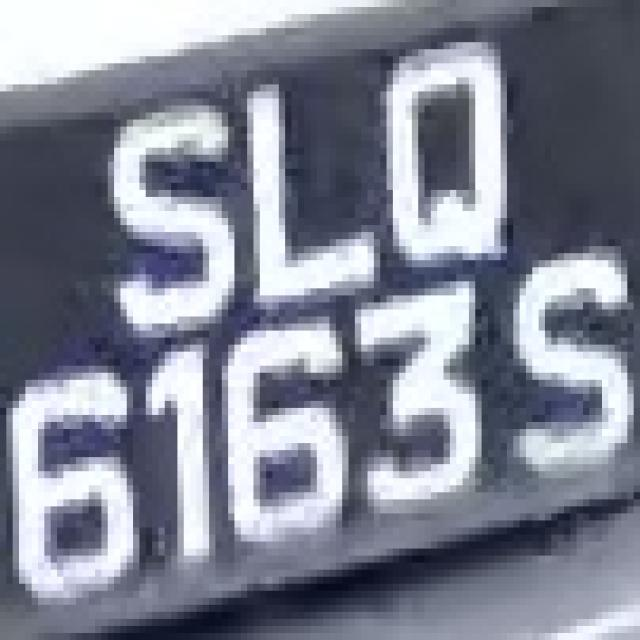1: (146, 323, 241, 598)
3: (361, 246, 469, 549)
6: (209, 302, 368, 570), (13, 337, 139, 619)
L: (228, 56, 387, 331)
Q: (361, 21, 532, 281)
S: (102, 77, 235, 345), (494, 246, 640, 478)
